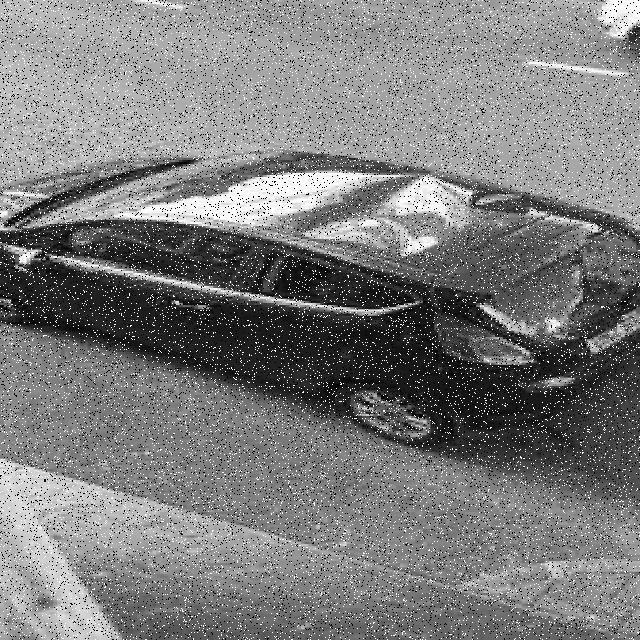roof-dent: (179, 150, 602, 276)
